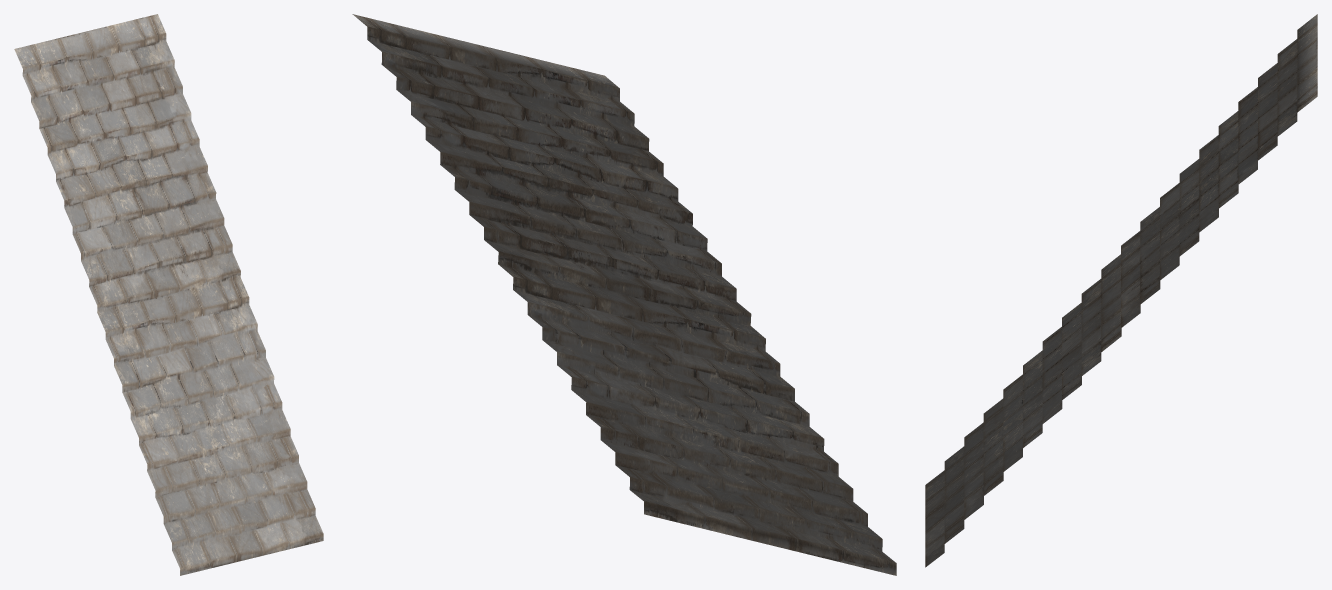
The model's file is SM_Roof01_3_LOD0.glb.
3 views of the same model, side by side, from view 1: azimuth 30°, elevation 25°; view 2: azimuth 150°, elevation 25°; view 3: azimuth 270°, elevation 25° (orthographic). The views are drawn at different scales.
Visible parts, largest first — view 1: SM_Roof01_3_LOD0; view 2: SM_Roof01_3_LOD0; view 3: SM_Roof01_3_LOD0.
Part boxes in pixels (x1=…): SM_Roof01_3_LOD0: x1=14, y1=14, x2=323, y2=575; SM_Roof01_3_LOD0: x1=352, y1=14, x2=896, y2=575; SM_Roof01_3_LOD0: x1=925, y1=14, x2=1317, y2=567.
Size of the model in its own units: 2 by 5.4 by 4.
1 material, 1 textured.
